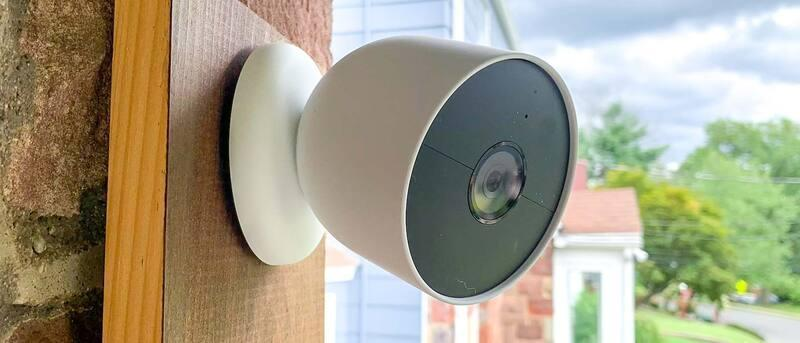nest: (217, 29, 575, 303)
